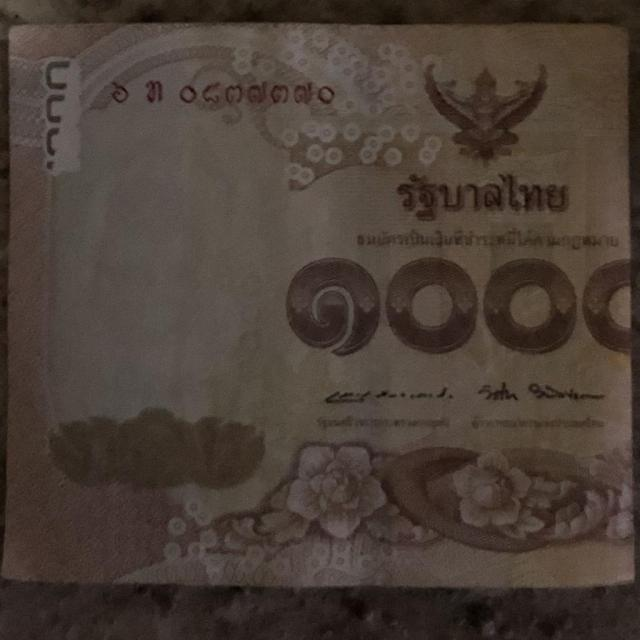THAI1000: (4, 24, 632, 588)
